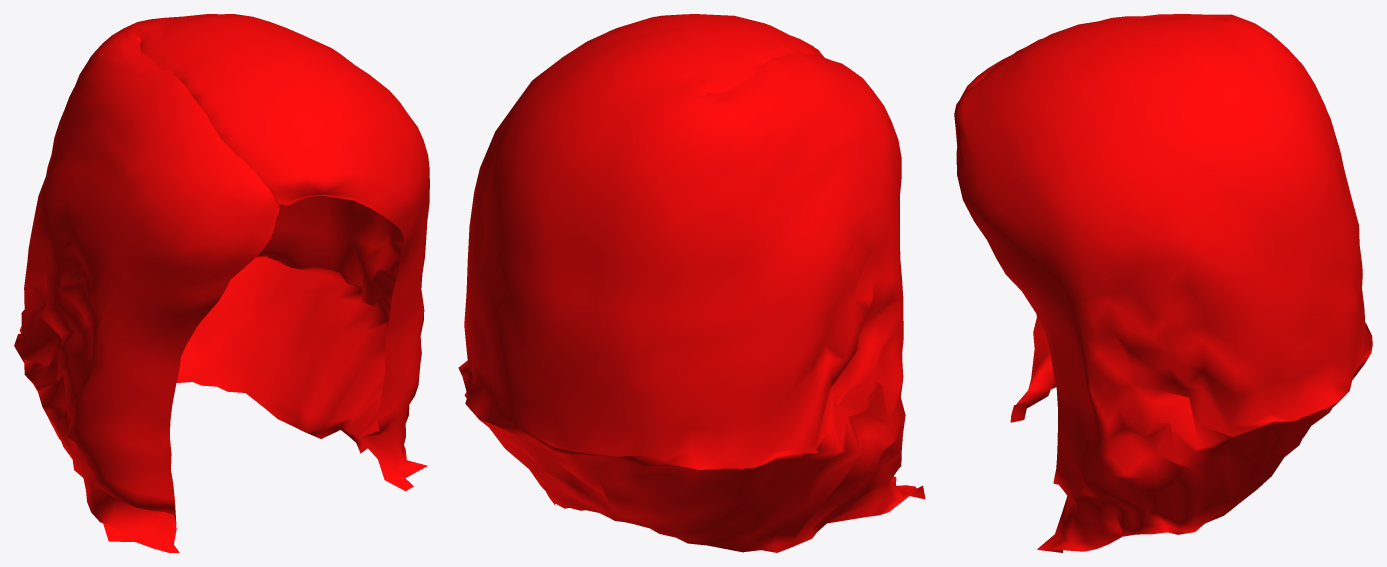
The model's file is toigo_blunt_bob_F.glb.
The picture shows the model from 3 angles, left to right: view 1: azimuth 30°, elevation 25°; view 2: azimuth 150°, elevation 25°; view 3: azimuth 270°, elevation 25°; orthographic projection. The views are drawn at different scales.
Size of the model in its own units: 0.2108 by 0.2512 by 0.2097.
Materials: 1 (1 with a texture image).
